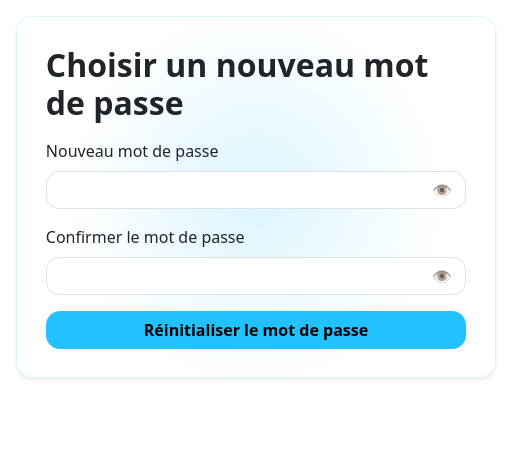
Test case: ResetPassword › rejects mismatched passwords
The width and height of the screenshot is (513, 471).
Type "newpassword456" into the password field labelled "Nouveau mot de passe" at (256, 190), box x1=46 y1=171 x2=466 y2=209
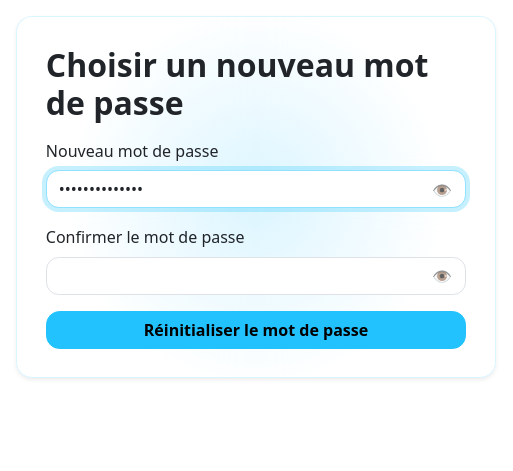
Type "different" into the password field labelled "Confirmer le mot de passe" at (256, 276), box x1=46 y1=257 x2=466 y2=295
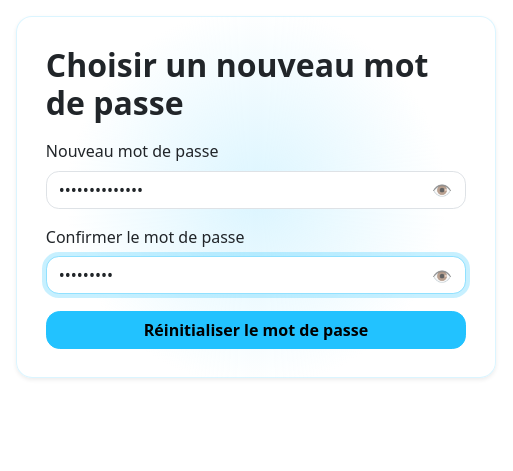
Click the button "Réinitialiser le mot de passe" at (256, 330), box x1=46 y1=311 x2=466 y2=349
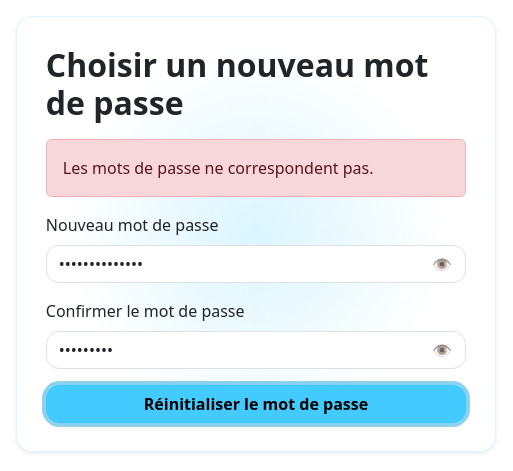
Expected: the text "Les mots de passe ne correspondent pas." is shown, x1=46 y1=139 x2=466 y2=197
